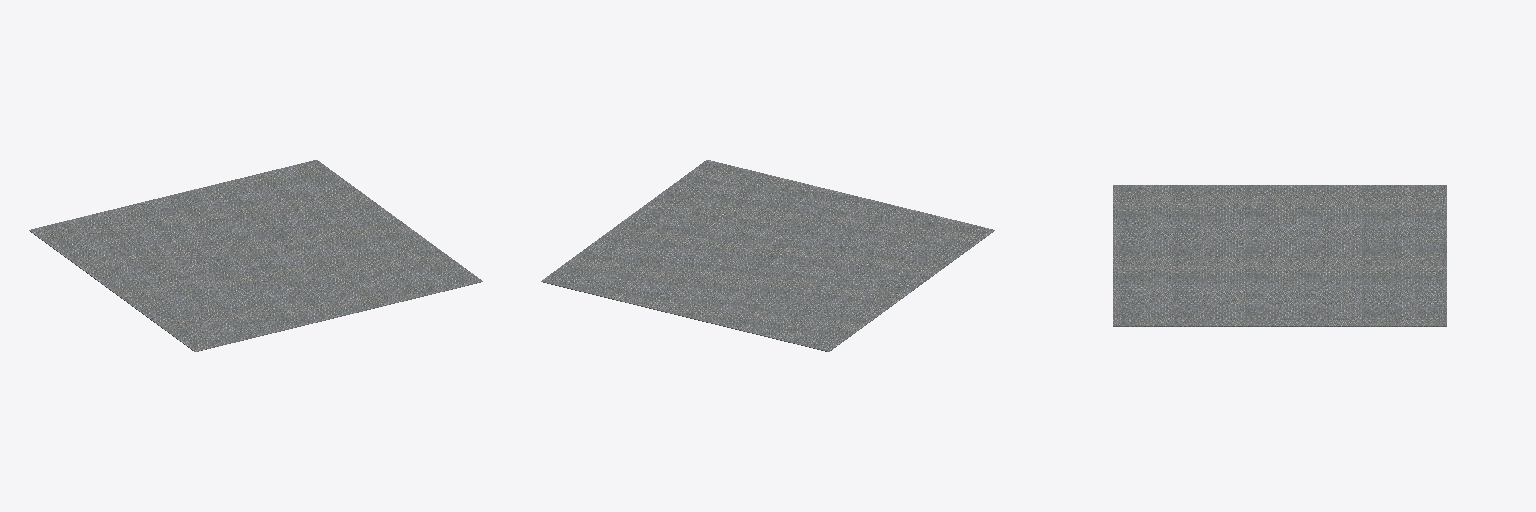
The picture shows the model from 3 angles: view 1: azimuth 30°, elevation 25°; view 2: azimuth 150°, elevation 25°; view 3: azimuth 270°, elevation 25°; orthographic projection.
Visible parts, largest first — view 1: pavimento2; view 2: pavimento2; view 3: pavimento2.
Boxes of the visible parts, box(x1,y1,x2,y2) form: pavimento2: box(29, 160, 482, 351); pavimento2: box(541, 160, 994, 351); pavimento2: box(1113, 185, 1446, 326).
Size of the model in its own units: 41.28 by 0.0662 by 41.28.
Materials: 1 (1 with a texture image).